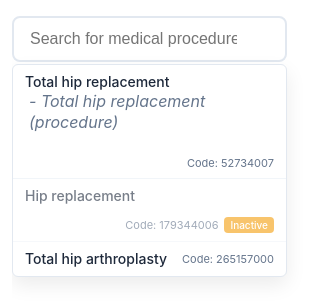
it: SearchInput Component › Mouse Interaction › should update input value when suggestion is selected
Click the text "Total hip replacement".
click(97, 82)  # box 25,73 -> 170,91
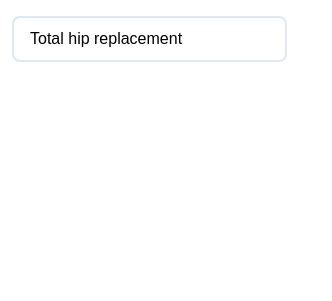
Check: the dropdown holds "Total hip replacement", box 12,16 -> 287,62
